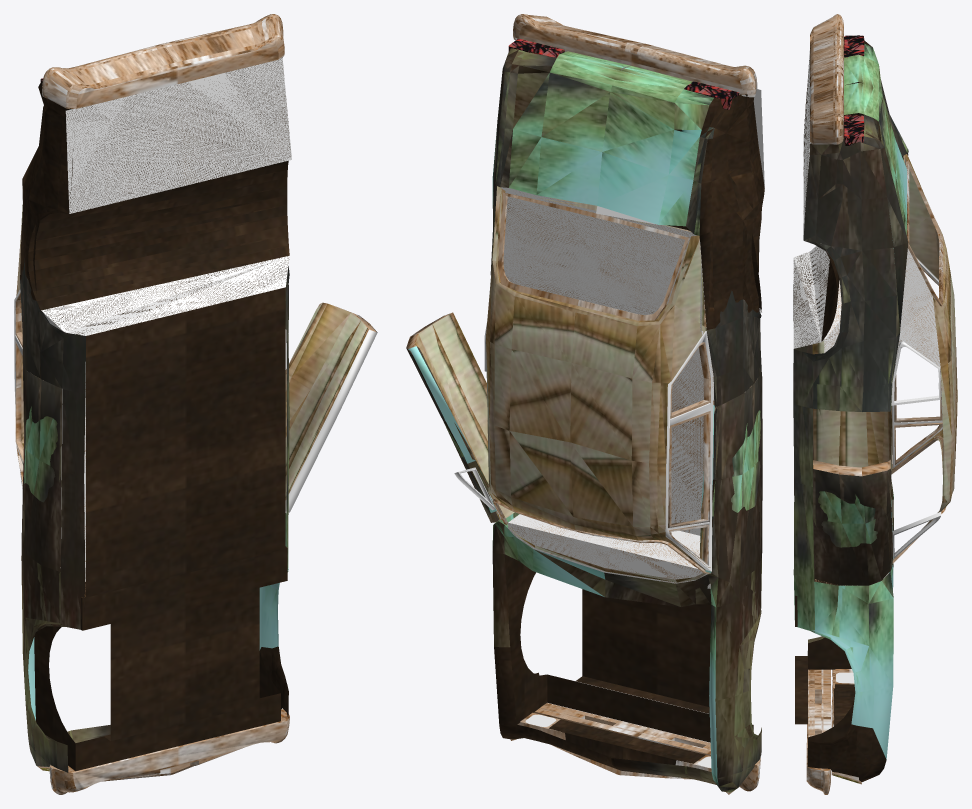
File: RustyCar2.dae
3 views of the same model, side by side, from view 1: azimuth 30°, elevation 25°; view 2: azimuth 150°, elevation 25°; view 3: azimuth 270°, elevation 25° (orthographic). The views are drawn at different scales.
Visible parts, largest first — view 1: group_0 (×4), NoName_210 (×3), NoName_51 (×3), NoName_12, NoName_172, NoName_33; view 2: NoName_210 (×3), group_0 (×2), Cube, NoName_51 (×3), NoName_12, Cube_4, NoName_5, NoName_172, NoName_37, NoName_33, NoName_13, NoName_1 (+2 smaller); view 3: NoName_210 (×2), NoName_51 (×3), Cube (×2), group_0 (×5), NoName_12, NoName_172, NoName_5, Cube_4, NoName_4, NoName_192, NoName_191, NoName_37 (+5 smaller).
Part boxes in pixels (x1,y1,x2,y2): group_0 (×4): [28, 58, 291, 771]; NoName_210 (×3): [20, 57, 289, 772]; NoName_51 (×3): [21, 302, 377, 571]; NoName_12: [42, 14, 284, 108]; NoName_172: [49, 709, 289, 794]; NoName_33: [15, 342, 23, 462]; NoName_210 (×3): [490, 45, 764, 792]; group_0 (×2): [501, 187, 753, 742]; Cube: [486, 186, 710, 582]; NoName_51 (×3): [406, 312, 762, 582]; NoName_12: [513, 14, 757, 97]; Cube_4: [548, 719, 705, 764]; NoName_5: [498, 192, 689, 320]; NoName_172: [533, 703, 760, 791]; NoName_37: [665, 331, 713, 571]; NoName_33: [668, 411, 710, 527]; NoName_13: [510, 712, 734, 794]; NoName_1: [492, 499, 706, 573]; NoName_210 (×2): [793, 43, 908, 782]; NoName_51 (×3): [812, 340, 892, 585]; Cube (×2): [891, 154, 957, 560]; group_0 (×5): [793, 51, 902, 742]; NoName_12: [810, 14, 843, 144]; NoName_172: [806, 669, 830, 794]; NoName_5: [906, 159, 943, 306]; Cube_4: [833, 684, 855, 726]; NoName_4: [892, 341, 940, 405]; NoName_192: [844, 115, 864, 145]; NoName_191: [892, 512, 941, 558]; NoName_37: [892, 257, 942, 468].
Size of the model in its own units: 138 by 61.43 by 283.
Materials: 8 (7 with a texture image).
